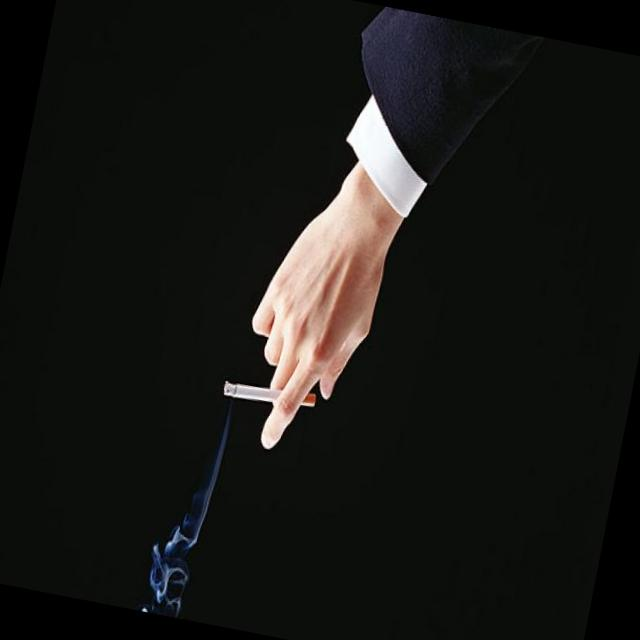cigarette: (219, 377, 321, 418)
